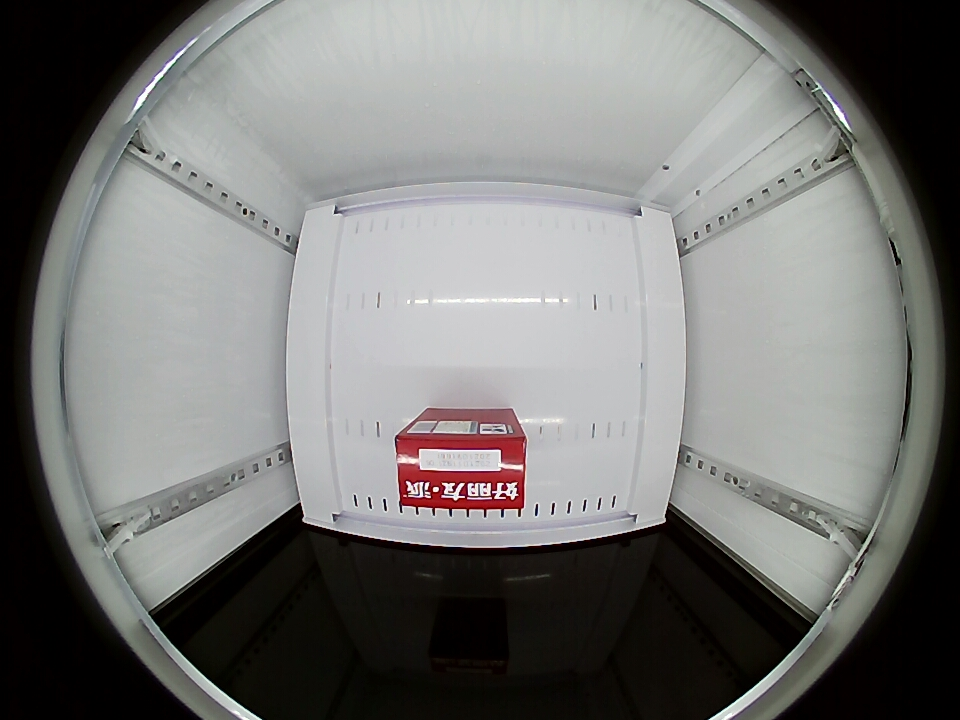haoliyou: (393, 412, 528, 515)
